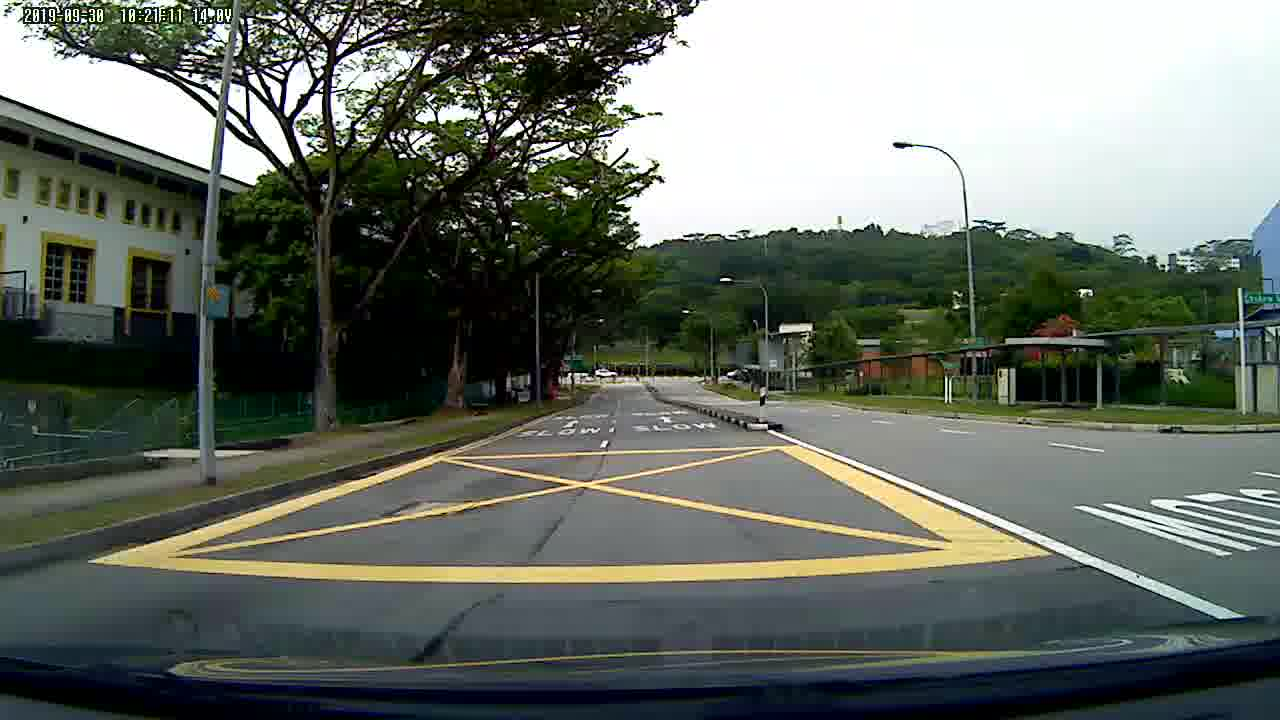car: (592, 366, 618, 379)
